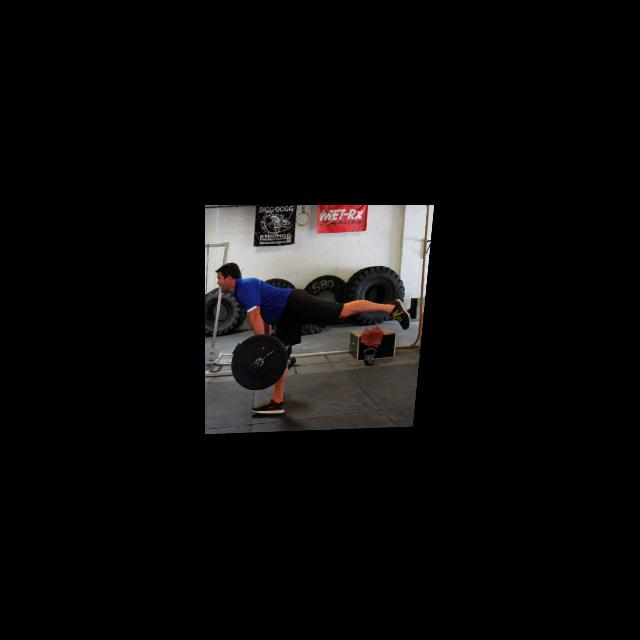barbell: (231, 333, 293, 393)
